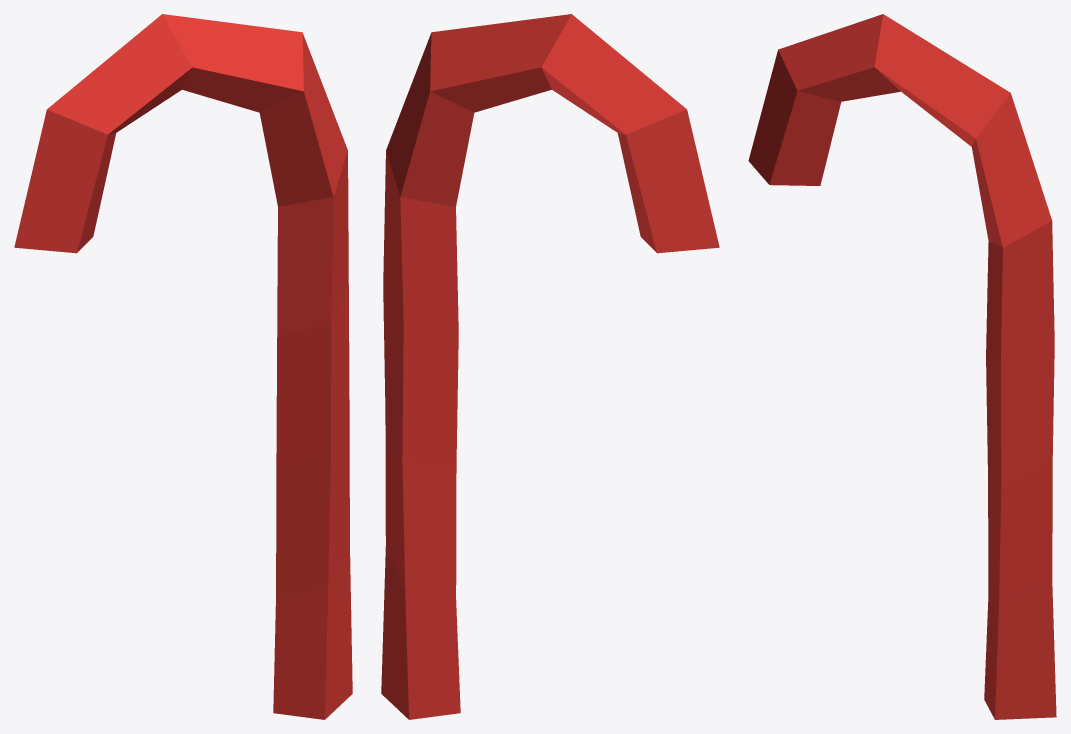
The model's file is SM_Candy_Cane.fbx.
3 renders of one model, left to right at view 1: azimuth 30°, elevation 25°; view 2: azimuth 150°, elevation 25°; view 3: azimuth 330°, elevation 25°, orthographic. The views are drawn at different scales.
Visible parts, largest first — view 1: candy-cane; view 2: candy-cane; view 3: candy-cane.
Boxes of the visible parts, x1,y1,x2,y2 form: candy-cane: [14, 14, 352, 719]; candy-cane: [381, 14, 719, 719]; candy-cane: [748, 14, 1056, 719].
Size of the model in its own units: 0.0975 by 0.1999 by 0.02.
